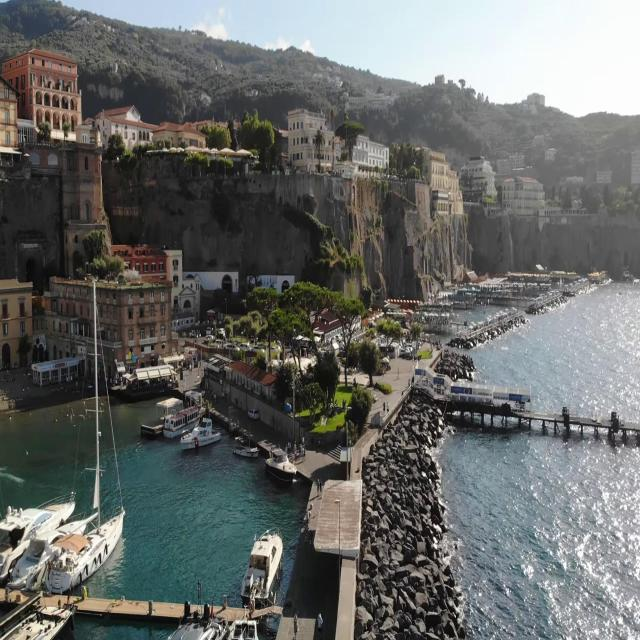boat: (0, 494, 72, 575), (19, 514, 87, 584), (240, 533, 282, 607), (164, 401, 206, 437), (269, 440, 301, 486), (182, 417, 222, 452), (234, 442, 258, 461)
sailboat: (45, 284, 126, 594)
